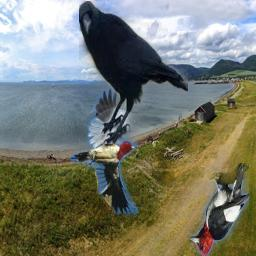Crow: (79, 1, 188, 144)
Woodpecker: (70, 87, 138, 216), (189, 163, 249, 256)
